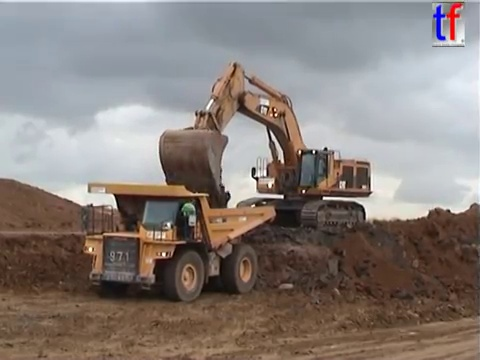excavator: (156, 58, 374, 237)
truck: (80, 180, 277, 303)
worker: (180, 196, 199, 241)
